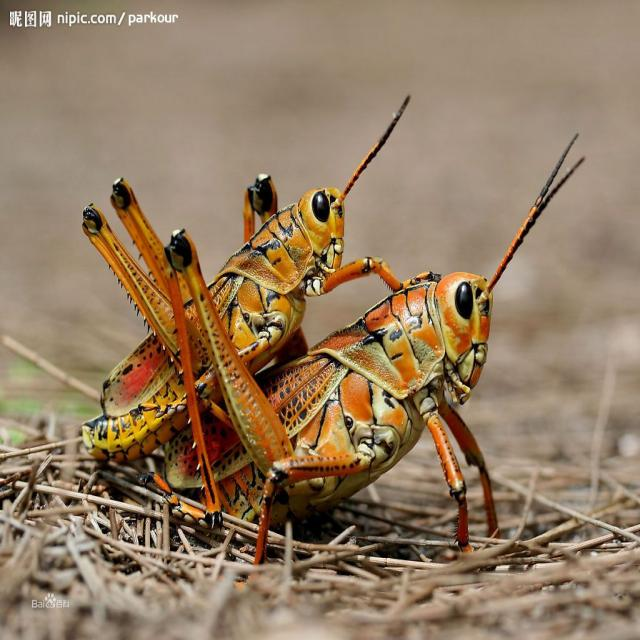ZhaMeng: (148, 116, 600, 560), (63, 138, 395, 495)
